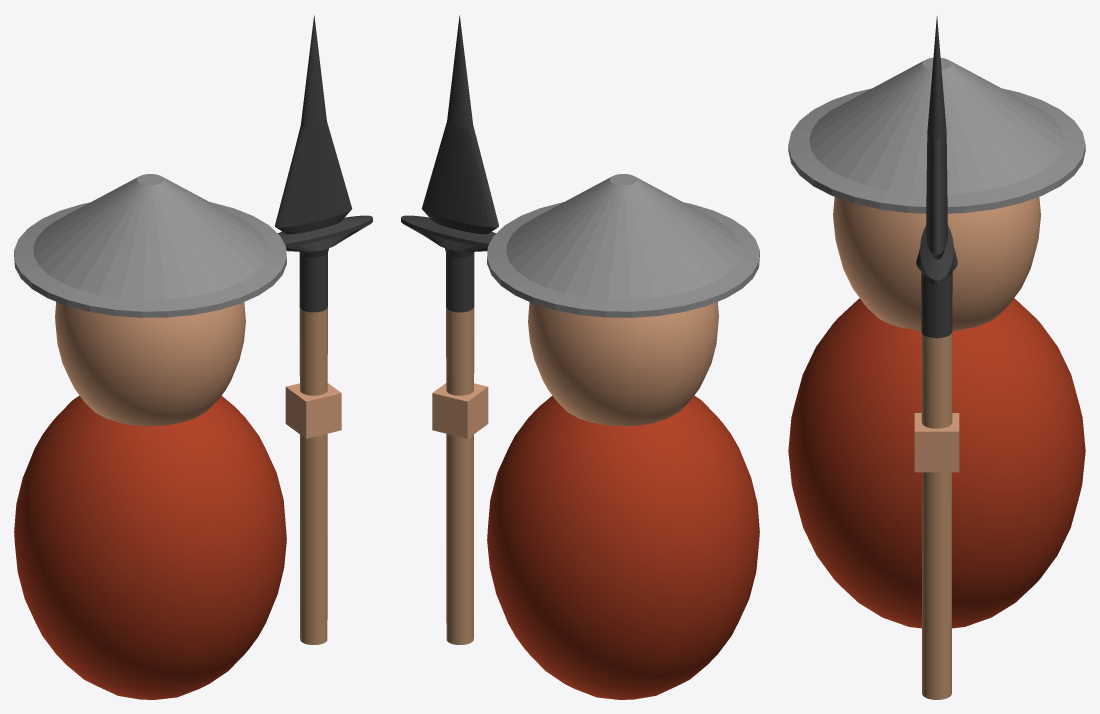
Rendered from Unit_Red.fbx.
3 views of the same model, side by side, from view 1: azimuth 30°, elevation 25°; view 2: azimuth 150°, elevation 25°; view 3: azimuth 270°, elevation 25° (orthographic). The views are drawn at different scales.
Parts seen in each view (by area): view 1: Unit; view 2: Unit; view 3: Unit.
Boxes of the visible parts, x1,y1,x2,y2 form: Unit: (14, 15, 372, 699); Unit: (401, 15, 759, 699); Unit: (788, 16, 1085, 699).
Size of the model in its own units: 1.44 by 2.57 by 1.
